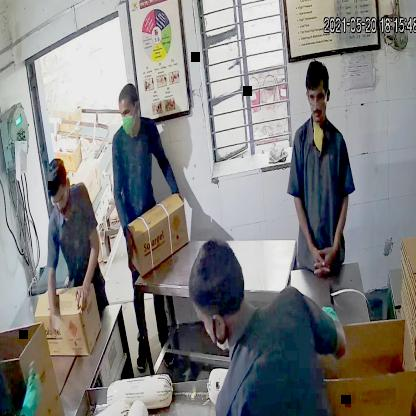goggles: (303, 86, 330, 112)
